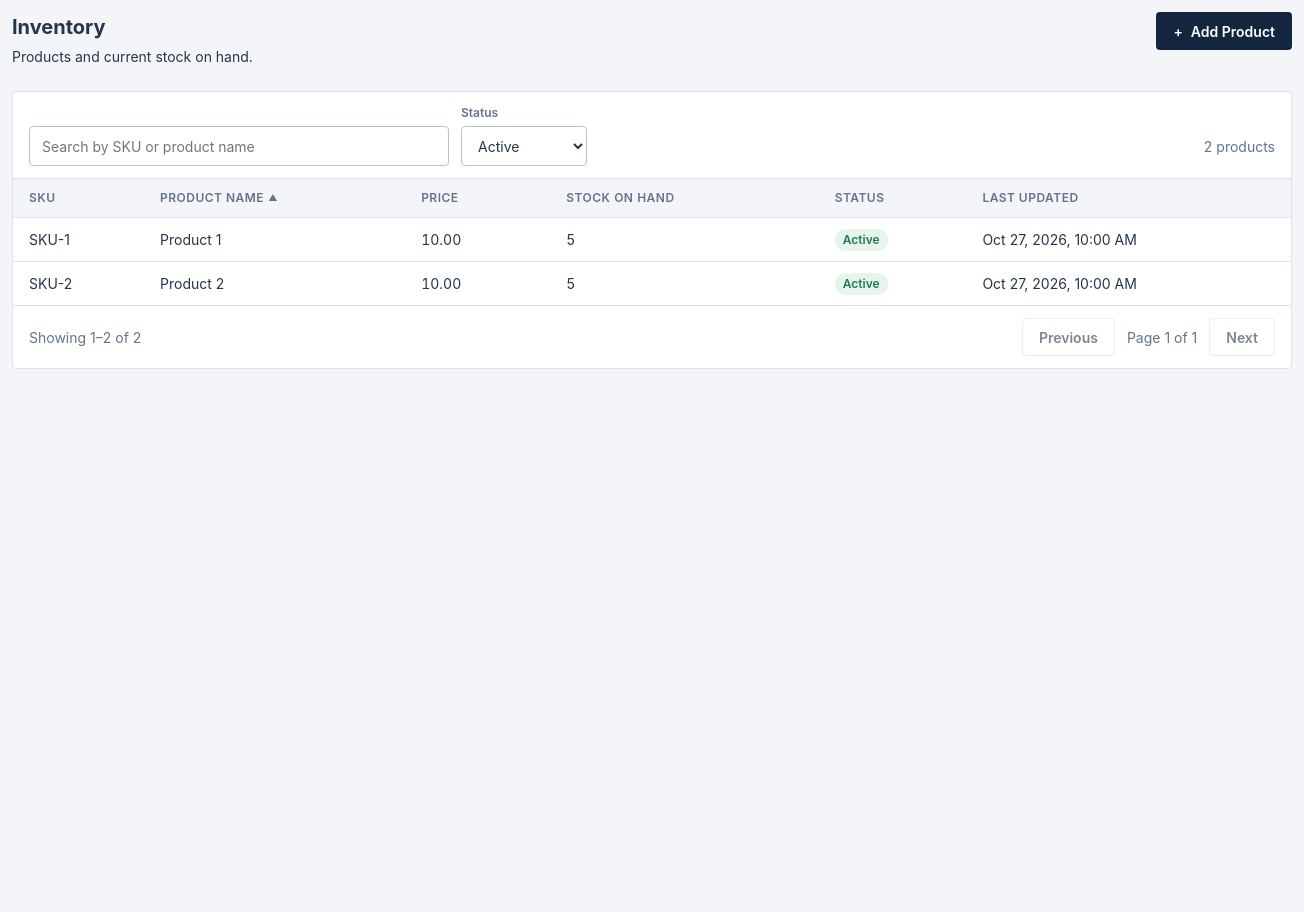
it: successful creation › saves, closes the form, confirms with the SKU and name, and shows the new product after a reload
The width and height of the screenshot is (1304, 912).
Expected: the text "Product 1" is shown, [144,218,405,262]
Click the button "+ Add Product". click: click(1224, 31)
box: [1156,12,1292,50]
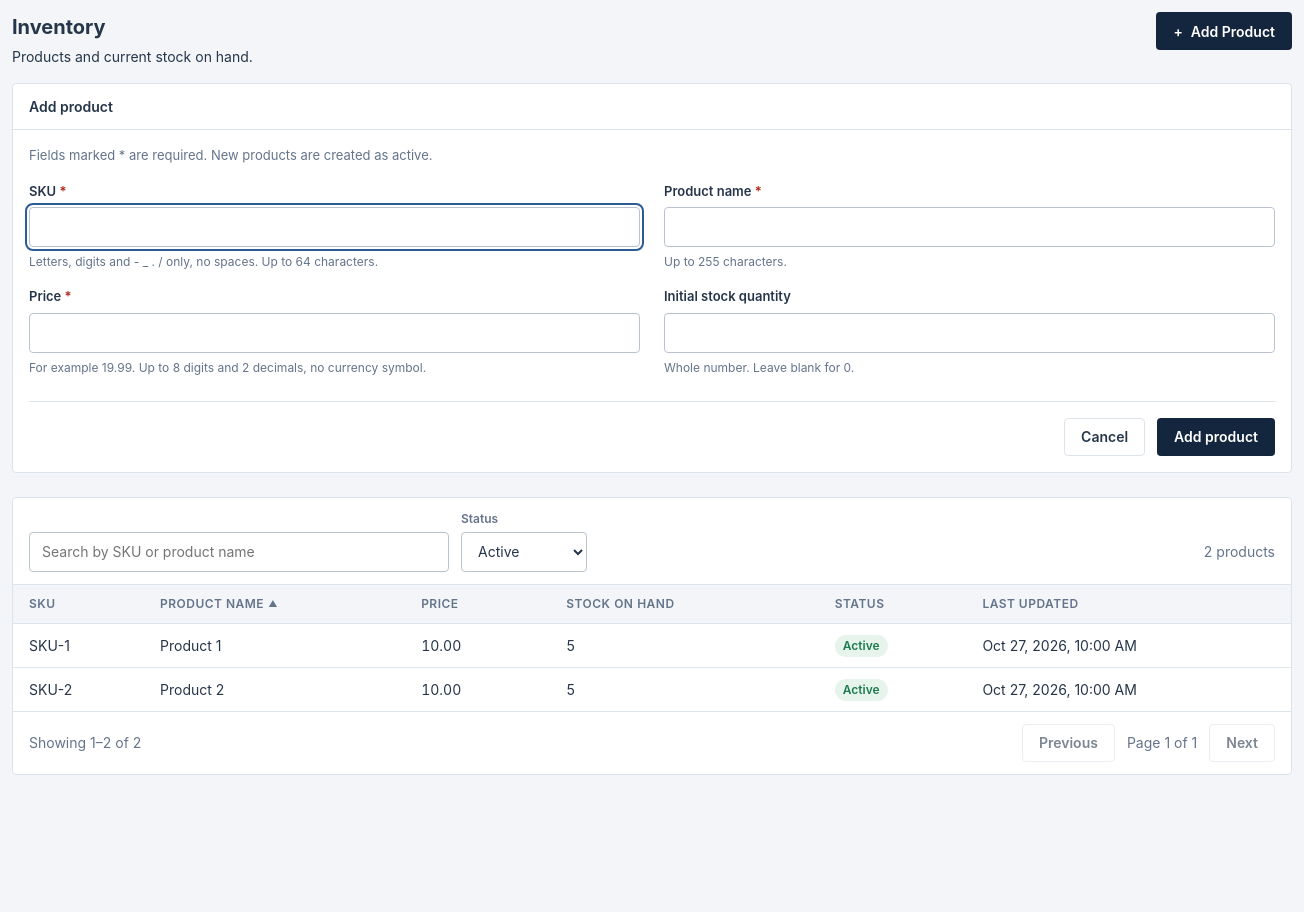
Type "SKU-NEW" into the field labelled "SKU *". click: (334, 227)
box: [29,207,640,247]
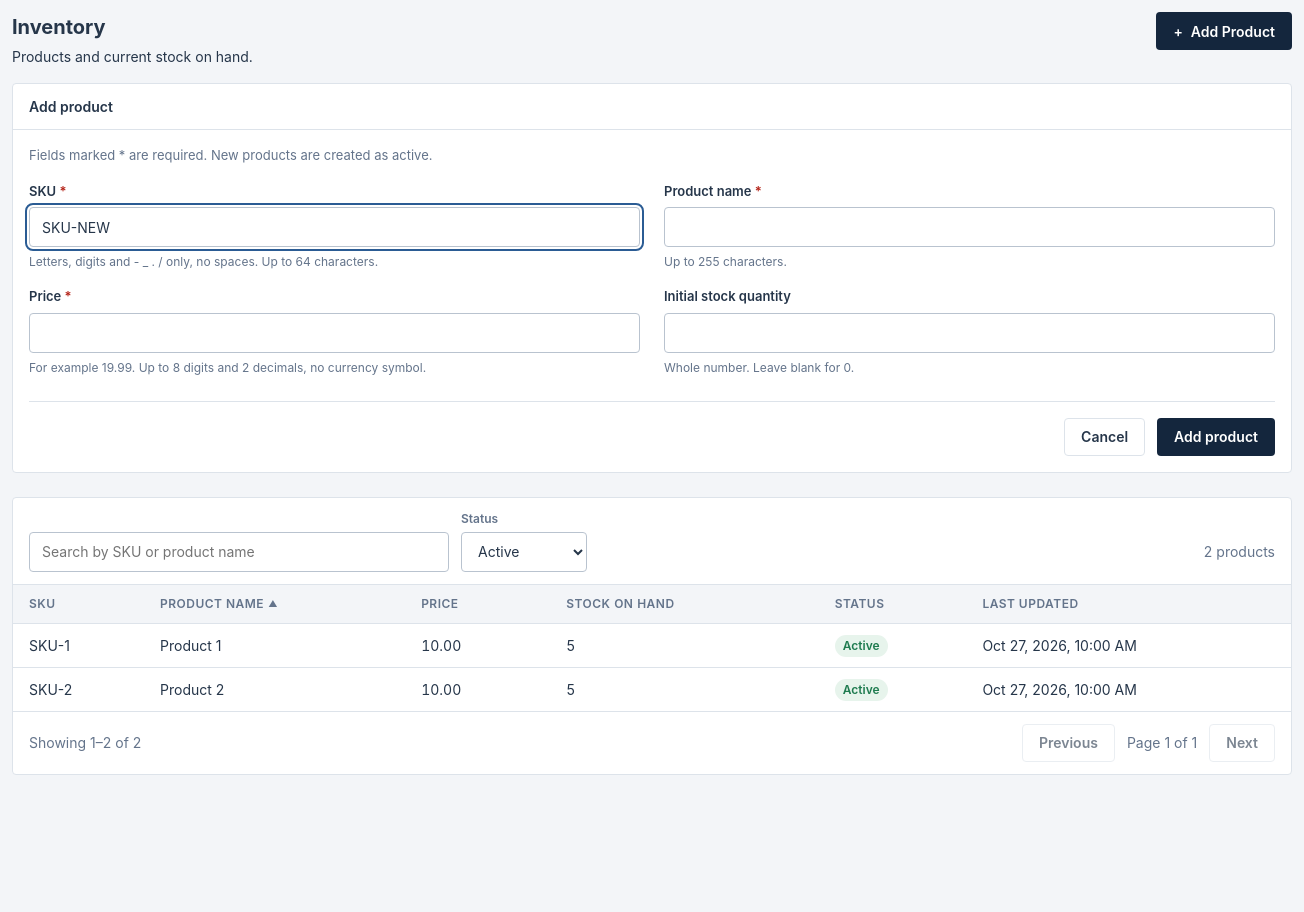
Type "Brand New Item" into the field labelled "Product name *". click: (970, 227)
box: [664,207,1275,247]
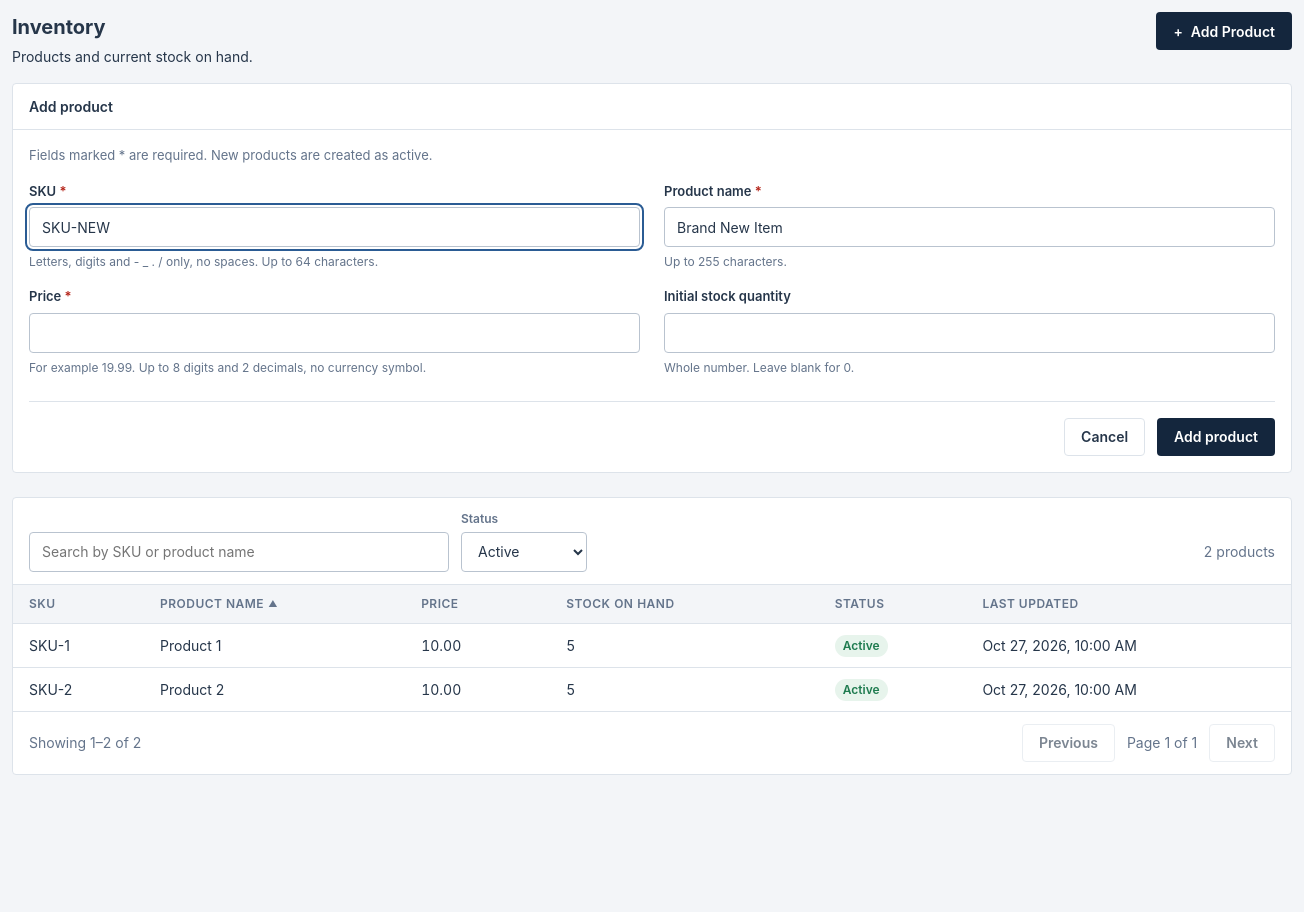
Type "12.50" into the field labelled "Price *". click: (334, 332)
box: [29,312,640,352]
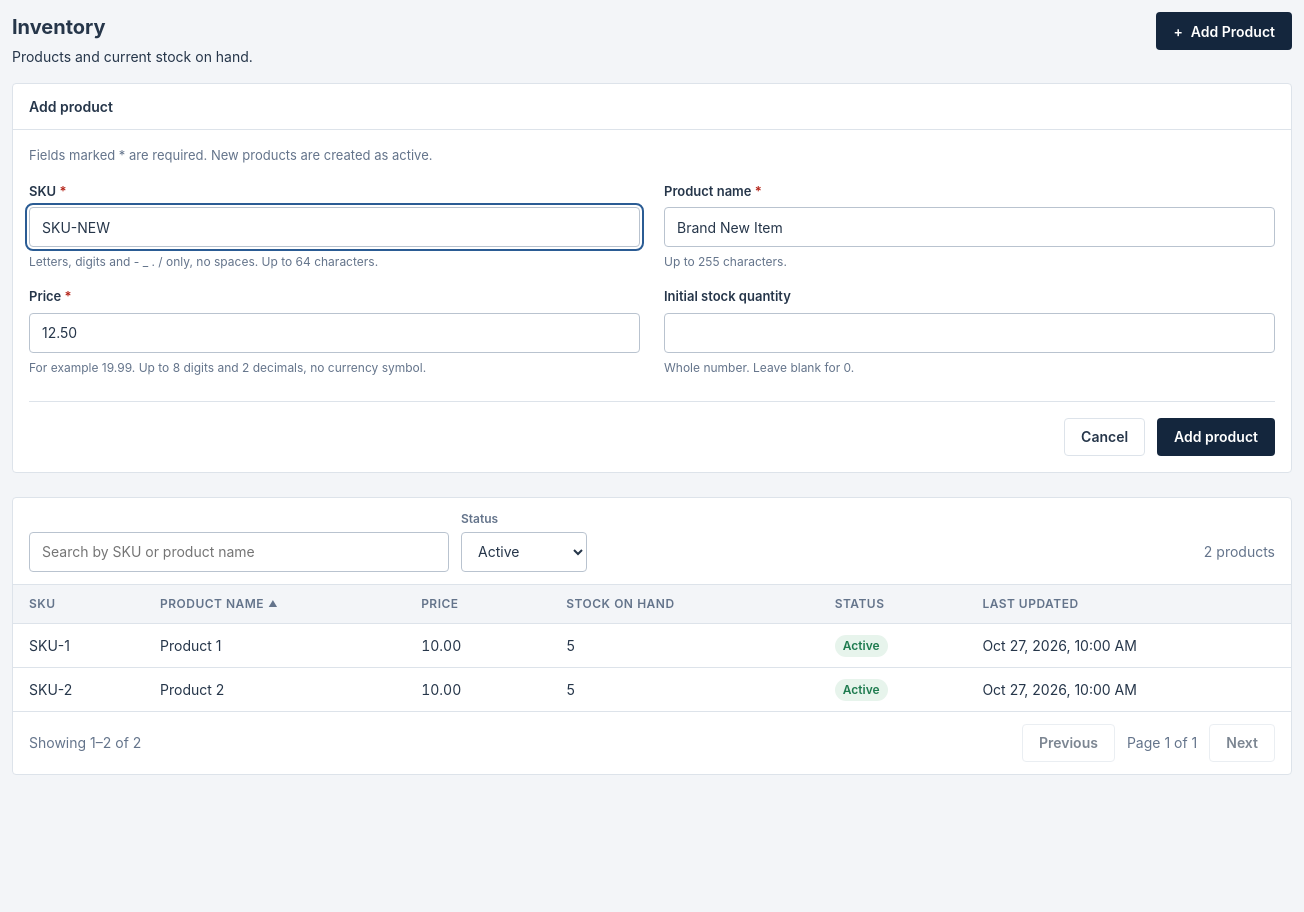
Type "8" into the field labelled "Initial stock quantity". click: (970, 332)
box: [664,312,1275,352]
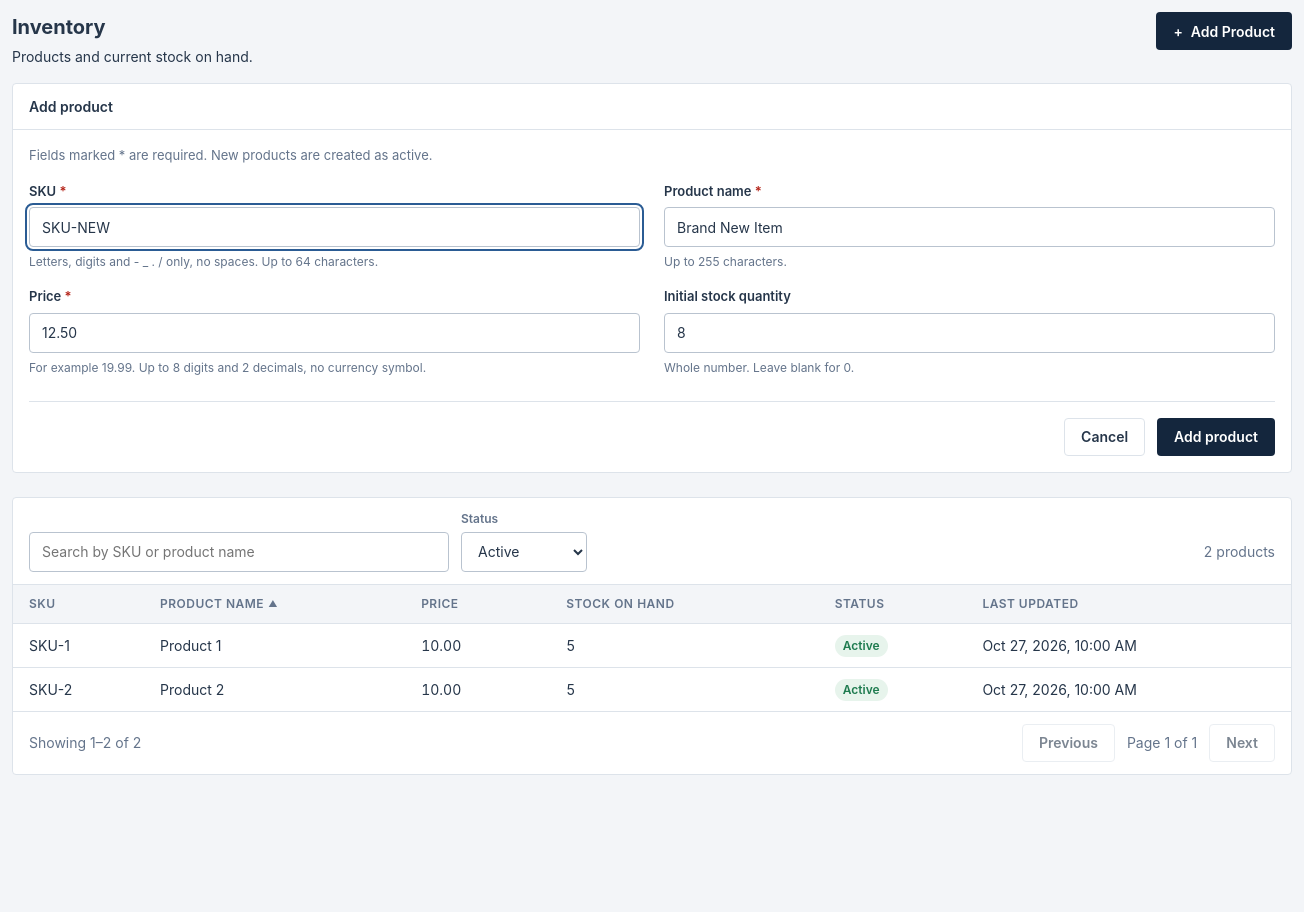
Click the button "Add product". click: click(1216, 436)
box: [1157,418,1275,456]
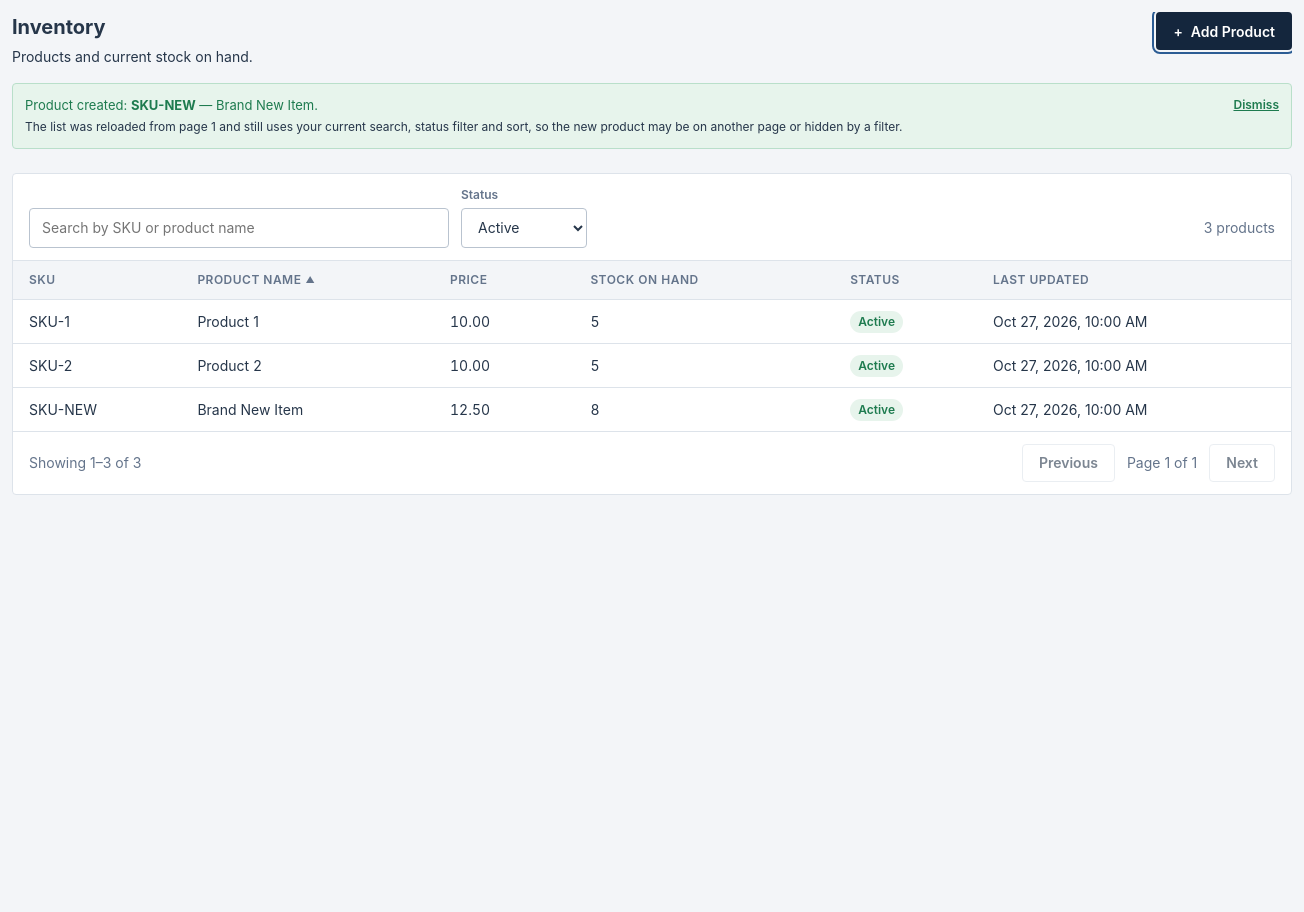
Result: the text "SKU-NEW" is shown at [131,97,196,113]
Result: the text "Product created:" shows "Brand New Item" at [216,97,314,113]
Result: the text "Brand New Item" is shown at [181,387,434,430]
